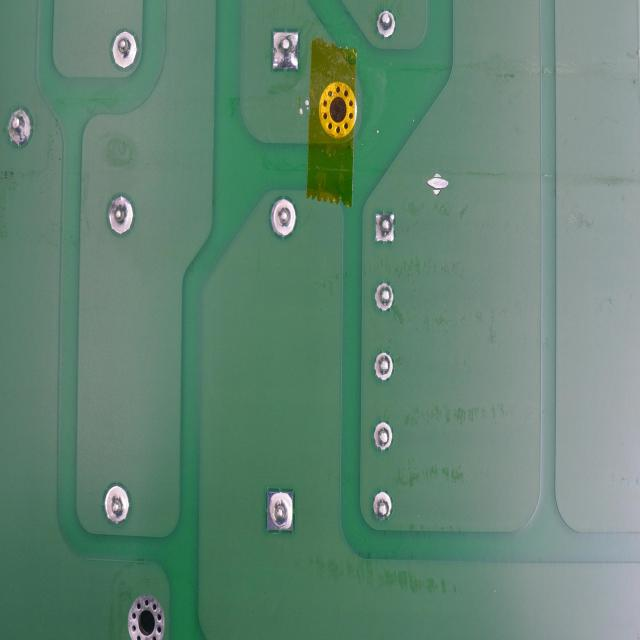spillover: (426, 173, 449, 195), (298, 96, 310, 115)
